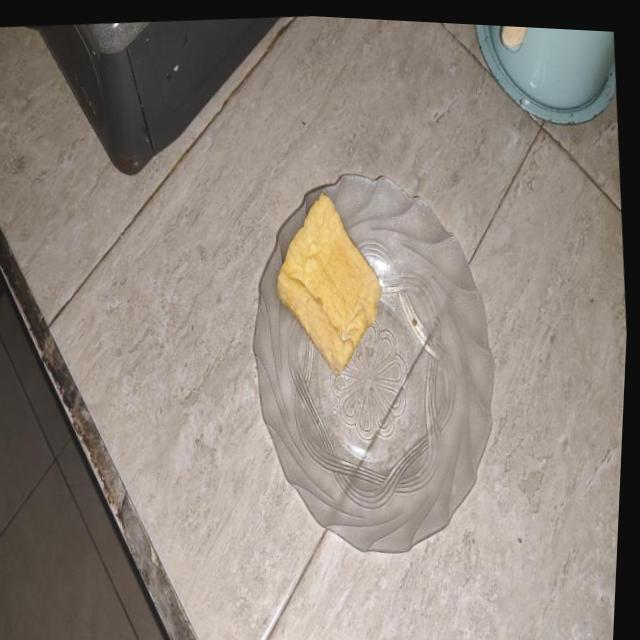tahu_goreng: (277, 193, 382, 375)
